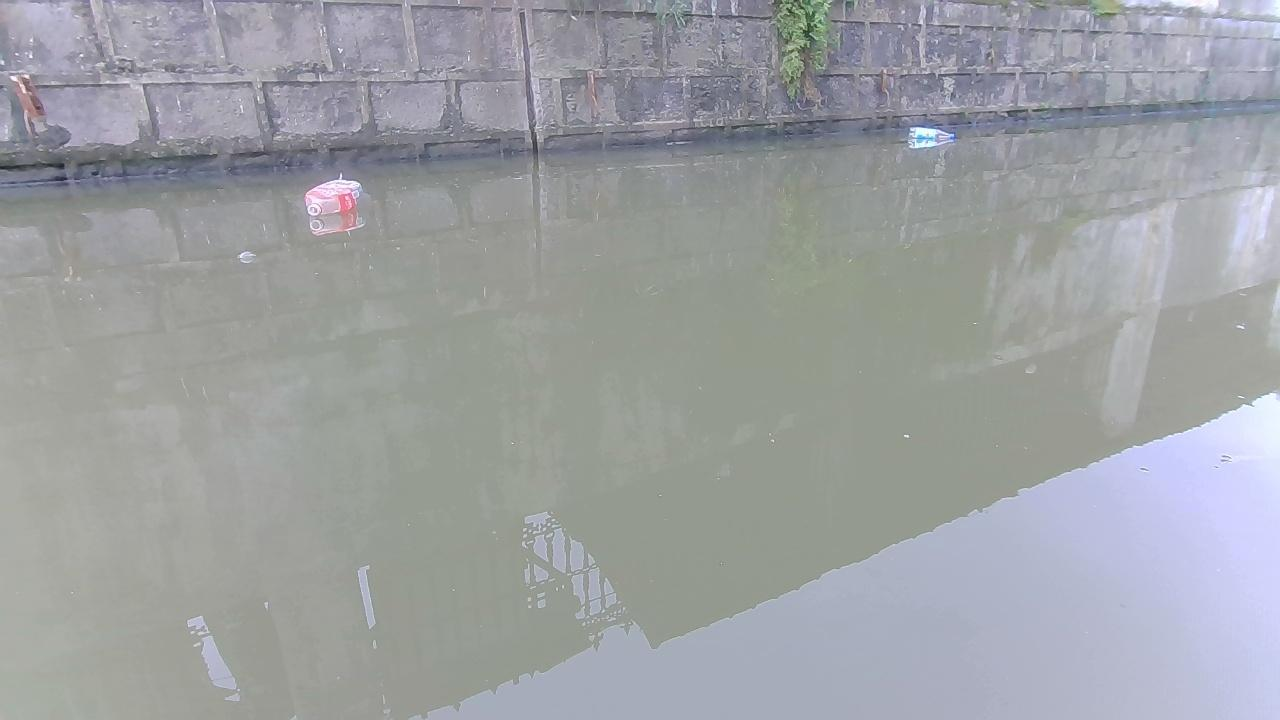bottle: (296, 174, 364, 217), (910, 127, 954, 143)
